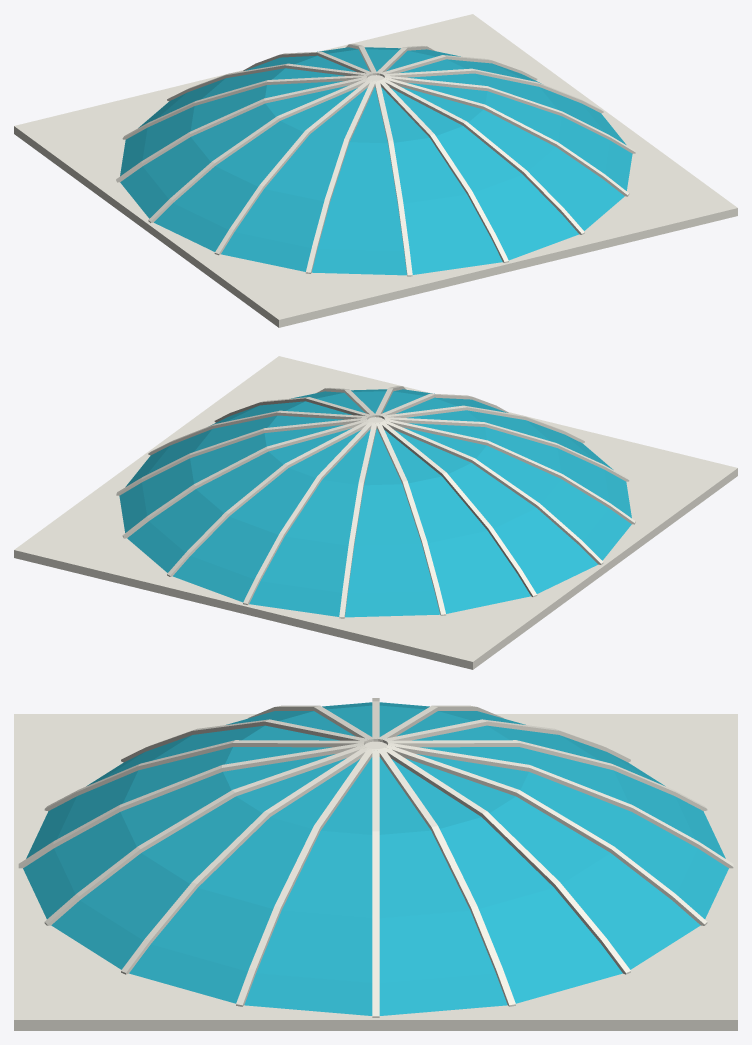
File: atrium_dome.glb
3 renders of one model, top to bottom at view 1: azimuth 30°, elevation 25°; view 2: azimuth 150°, elevation 25°; view 3: azimuth 270°, elevation 25°, orthographic. The views are drawn at different scales.
Parts seen in each view (by area): view 1: Aero_atrium_dome; view 2: Aero_atrium_dome; view 3: Aero_atrium_dome.
Part boxes in pixels (x1=…): Aero_atrium_dome: x1=14, y1=14, x2=737, y2=327; Aero_atrium_dome: x1=14, y1=356, x2=737, y2=669; Aero_atrium_dome: x1=14, y1=698, x2=737, y2=1030.
Bounding box in the file's own units: 12 × 2.45 × 12.
3 materials, 3 textured.
